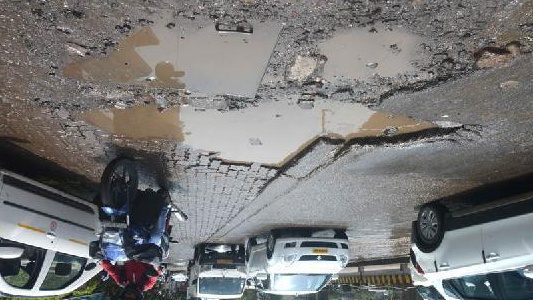pothole: (76, 101, 471, 176), (57, 16, 286, 103), (304, 24, 453, 103)
